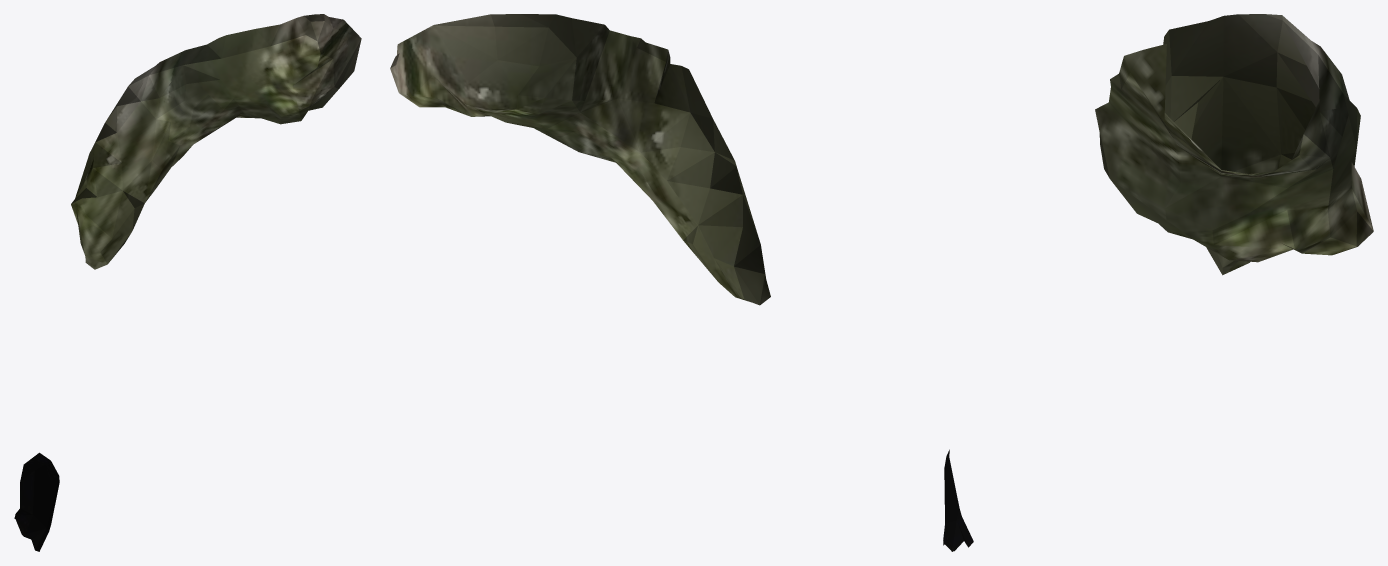
3 renders of one model, left to right at view 1: azimuth 30°, elevation 25°; view 2: azimuth 150°, elevation 25°; view 3: azimuth 270°, elevation 25°, orthographic. The views are drawn at different scales.
Bounding box in the file's own units: 2.35 × 2.18 × 1.06.
Materials: 1 (1 with a texture image).
